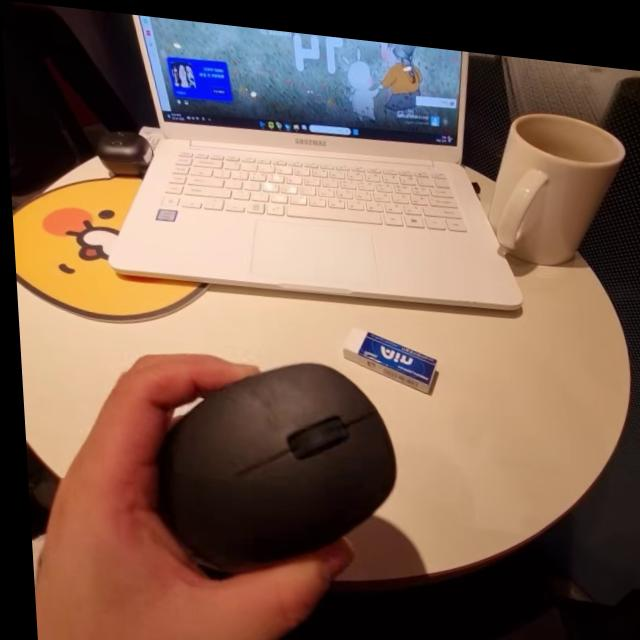eraser: (305, 309, 441, 391)
grab_mouse: (29, 320, 405, 640)
